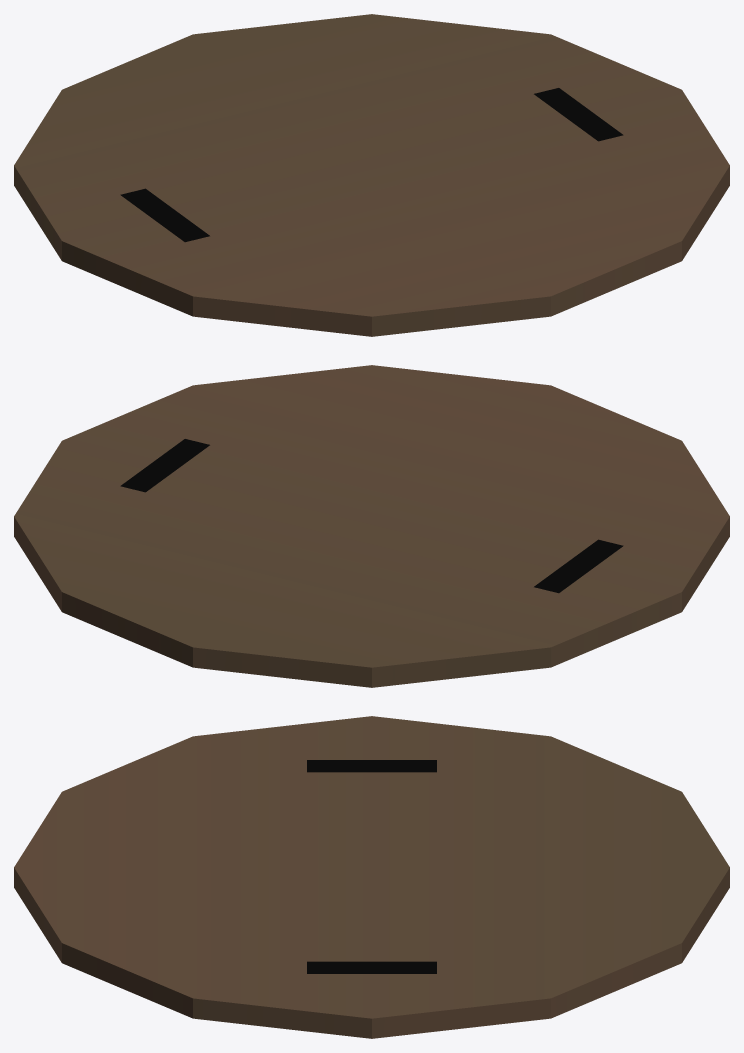
The model's file is SM_Street_Well_1.FBX.
3 renders of one model, top to bottom at view 1: azimuth 30°, elevation 25°; view 2: azimuth 150°, elevation 25°; view 3: azimuth 270°, elevation 25°, orthographic.
Parts seen in each view (by area): view 1: SM_Street_Well_1; view 2: SM_Street_Well_1; view 3: SM_Street_Well_1.
Part boxes in pixels (x1,y1,x2,y2): SM_Street_Well_1: (14,14,729,336); SM_Street_Well_1: (14,365,729,687); SM_Street_Well_1: (14,716,729,1038).
Size of what is drawn, in the model's own units: 180 by 180 by 5.7.
